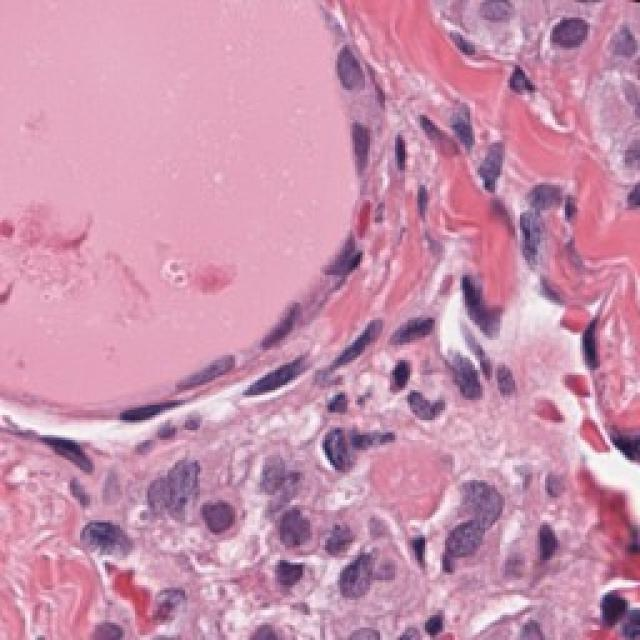normal: (289, 97, 389, 179), (414, 324, 502, 411), (237, 343, 322, 423), (518, 8, 603, 79), (429, 506, 499, 587), (124, 389, 189, 446), (262, 489, 318, 551)
